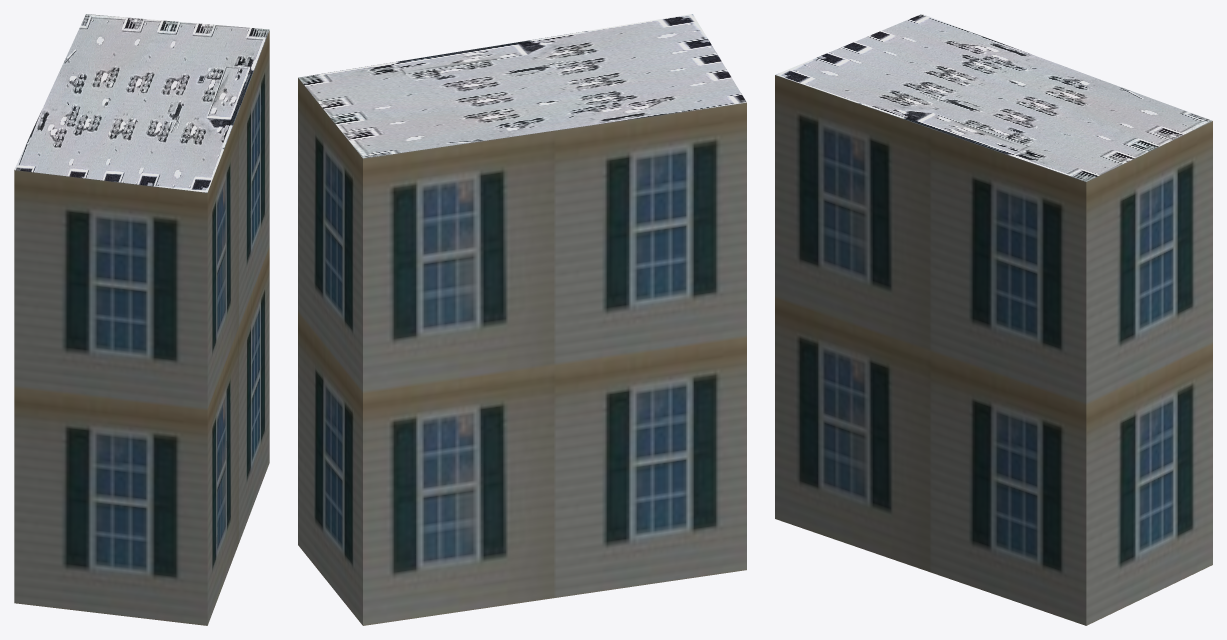
File: ResTex__1302.fbx
3 views of the same model, side by side, from view 1: azimuth 30°, elevation 25°; view 2: azimuth 150°, elevation 25°; view 3: azimuth 270°, elevation 25° (orthographic). The views are drawn at different scales.
Parts seen in each view (by area): view 1: CityEngineMaterial_7_m, CityEngineMaterial_4_m; view 2: CityEngineMaterial_7_m, CityEngineMaterial_4_m; view 3: CityEngineMaterial_7_m, CityEngineMaterial_4_m.
Part boxes in pixels (x1,y1,x2,y2): CityEngineMaterial_7_m: (14,30,269,625); CityEngineMaterial_4_m: (14,14,269,192); CityEngineMaterial_7_m: (298,78,746,625); CityEngineMaterial_4_m: (298,14,746,158); CityEngineMaterial_7_m: (775,75,1212,625); CityEngineMaterial_4_m: (775,14,1212,181).
Size of the model in its own units: 4.87 by 6 by 5.36.
Materials: 2 (2 with a texture image).
